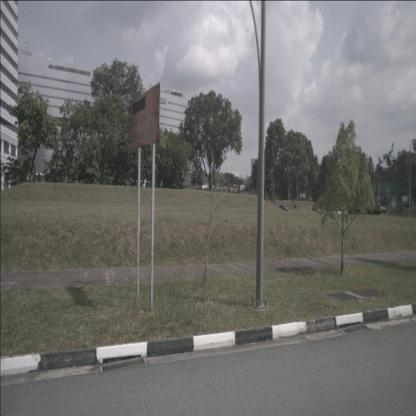barrier: (312, 206, 317, 214), (308, 206, 313, 213)
